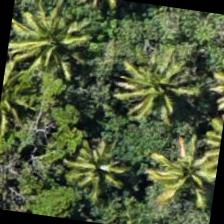Kelapa_Sawit: (101, 44, 203, 146), (3, 0, 106, 97), (57, 126, 160, 223), (131, 134, 221, 223)
